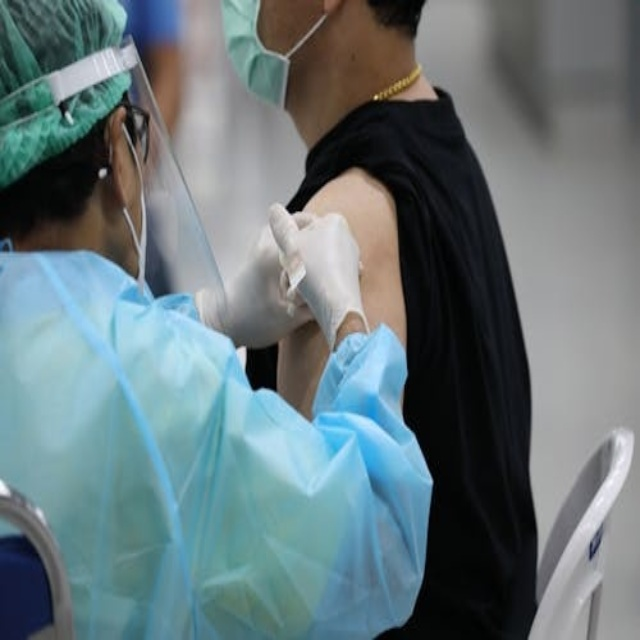Guantes: (236, 206, 374, 336)
Mascara: (220, 1, 308, 110), (118, 124, 148, 298)
